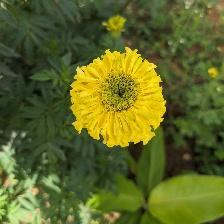marigold: (70, 47, 172, 151)
